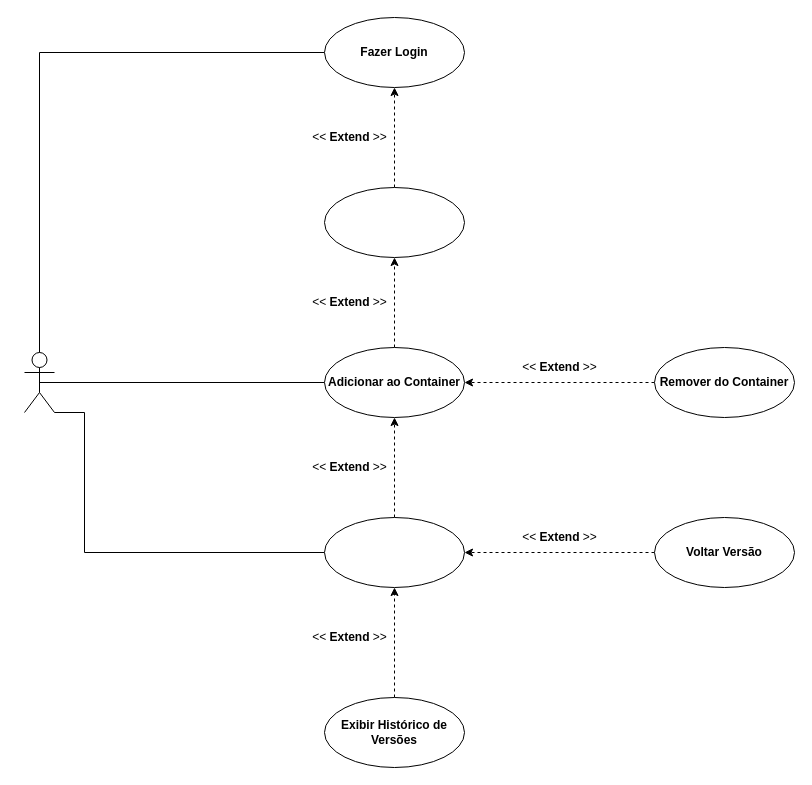
Some shapes in this 812 by 785 pixel diagram are drawn without their labels. Each missing label, with the box of its shape:
Criar Nova Versão: (324, 516, 464, 588)
Iniciar Repositório: (324, 186, 464, 258)
Usuário: (24, 352, 54, 412)
